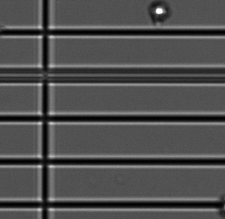Living Cell: (149, 1, 170, 22)
